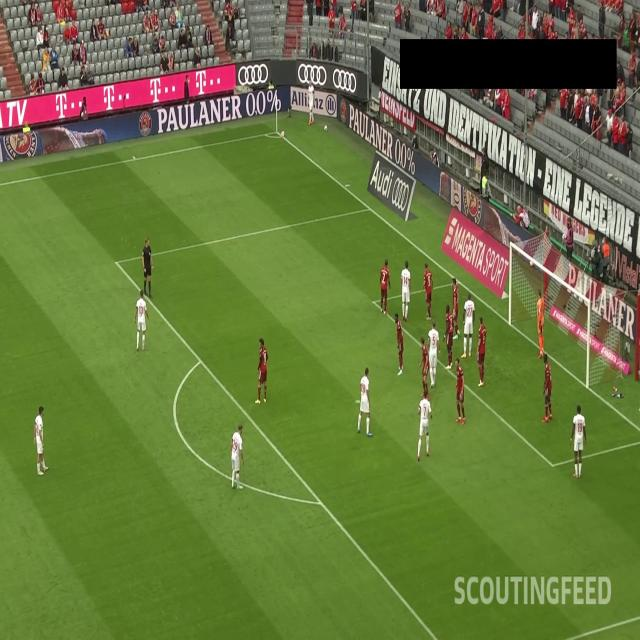ball: (280, 128, 286, 140)
player: (568, 400, 589, 479), (355, 364, 374, 439), (227, 420, 245, 491), (416, 331, 431, 406), (452, 354, 467, 427), (440, 304, 456, 372), (34, 403, 48, 476), (427, 318, 441, 391), (473, 315, 487, 388), (132, 289, 148, 352), (254, 334, 268, 406), (416, 390, 430, 462), (462, 292, 476, 358), (542, 352, 554, 424), (449, 272, 461, 343), (378, 255, 392, 315), (399, 257, 412, 321), (394, 311, 406, 378), (420, 260, 433, 320), (535, 285, 545, 361), (304, 77, 316, 127)
referee: (139, 232, 155, 302)
